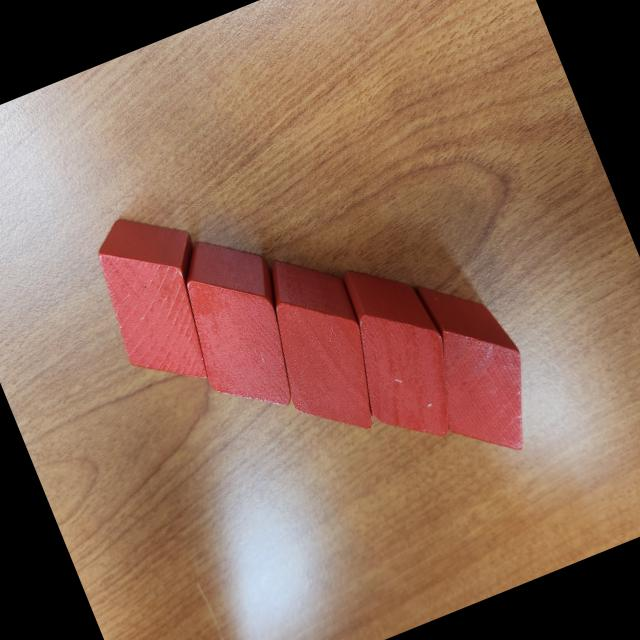red: (157, 219, 322, 430), (393, 258, 555, 472), (317, 245, 477, 460), (240, 240, 398, 452), (78, 196, 242, 400)
